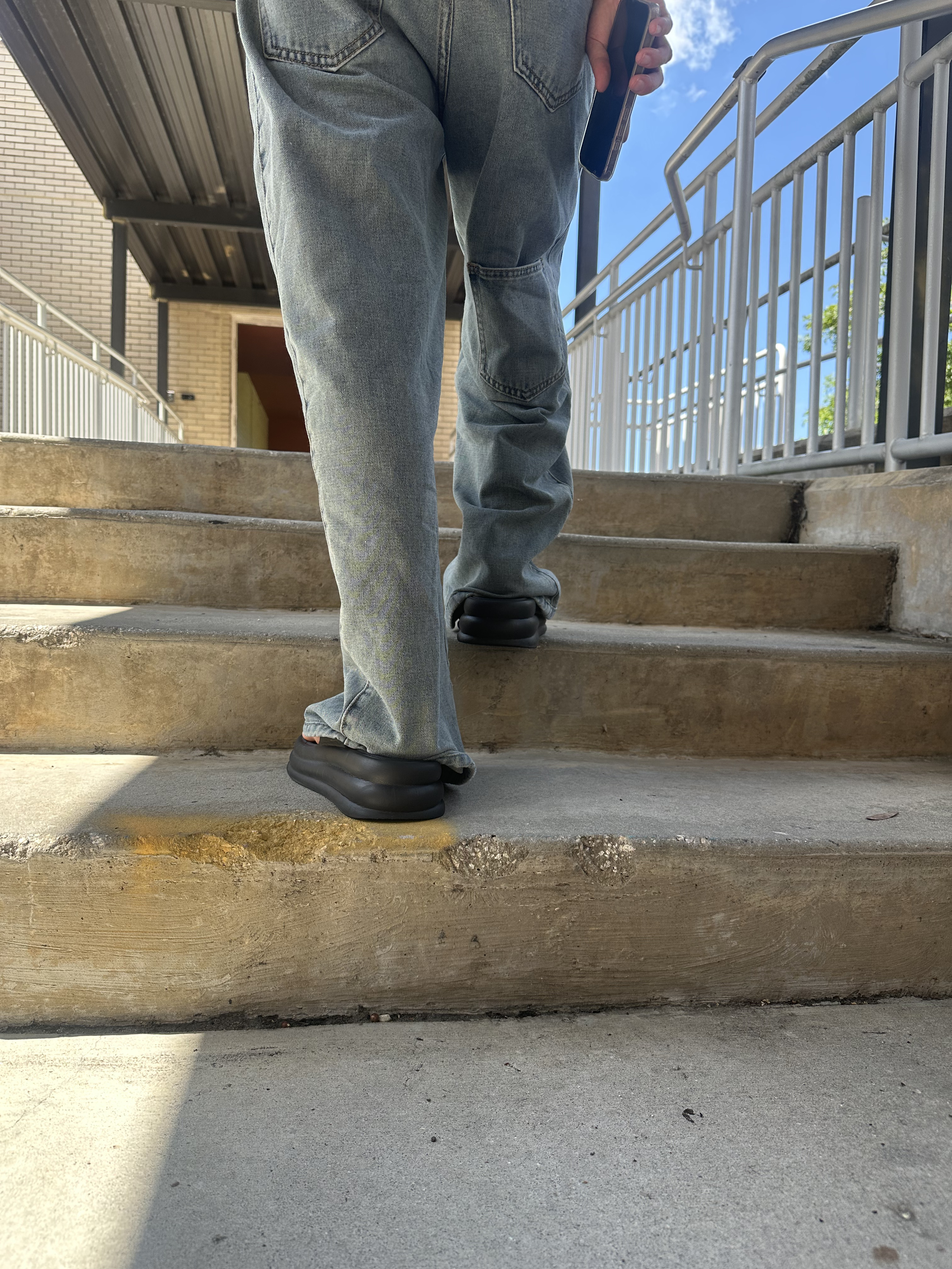stairs: (3, 423, 952, 1032)
